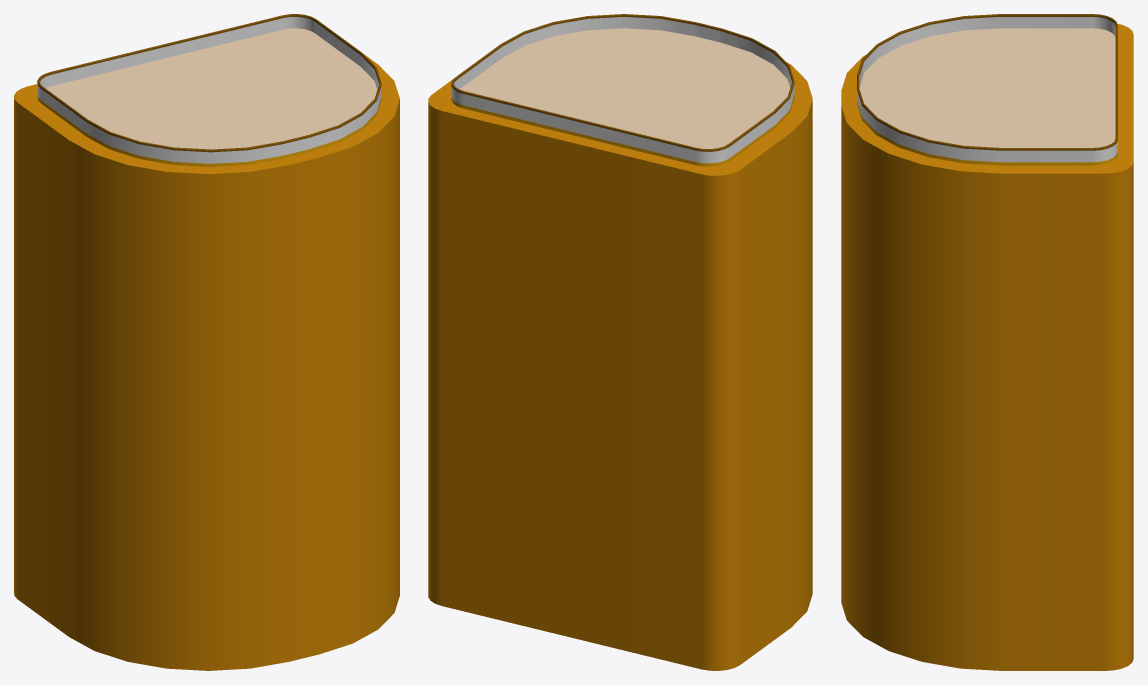
3 views of the same model, side by side, from view 1: azimuth 30°, elevation 25°; view 2: azimuth 150°, elevation 25°; view 3: azimuth 270°, elevation 25° (orthographic).
Visible parts, largest first — view 1: base37, base17, polySurface1175, polySurface1174, polySurface268; view 2: base37, base17, polySurface1174, polySurface1175, polySurface268; view 3: base37, base17, polySurface1174, polySurface1175, polySurface268.
Part boxes in pixels (x1,y1,x2,y2): base37: [14, 54, 399, 670]; base17: [37, 28, 381, 166]; polySurface1175: [37, 69, 266, 163]; polySurface1174: [260, 17, 381, 144]; polySurface268: [37, 14, 381, 152]; base37: [428, 62, 812, 670]; base17: [451, 28, 794, 166]; polySurface1174: [451, 16, 680, 110]; polySurface1175: [673, 36, 794, 163]; polySurface268: [451, 14, 794, 151]; base37: [841, 24, 1133, 670]; base17: [857, 28, 1117, 165]; polySurface1174: [859, 98, 1117, 162]; polySurface1175: [861, 17, 1115, 80]; polySurface268: [859, 14, 1117, 150].
Bounding box in the file's own units: 73.45 × 116 × 60.01.
